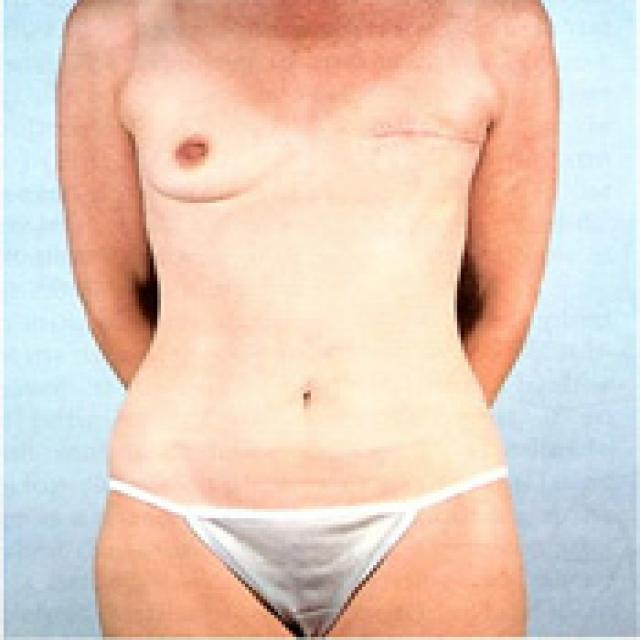Seno herido: (316, 81, 494, 221)
Seno ileso: (122, 80, 309, 220)
